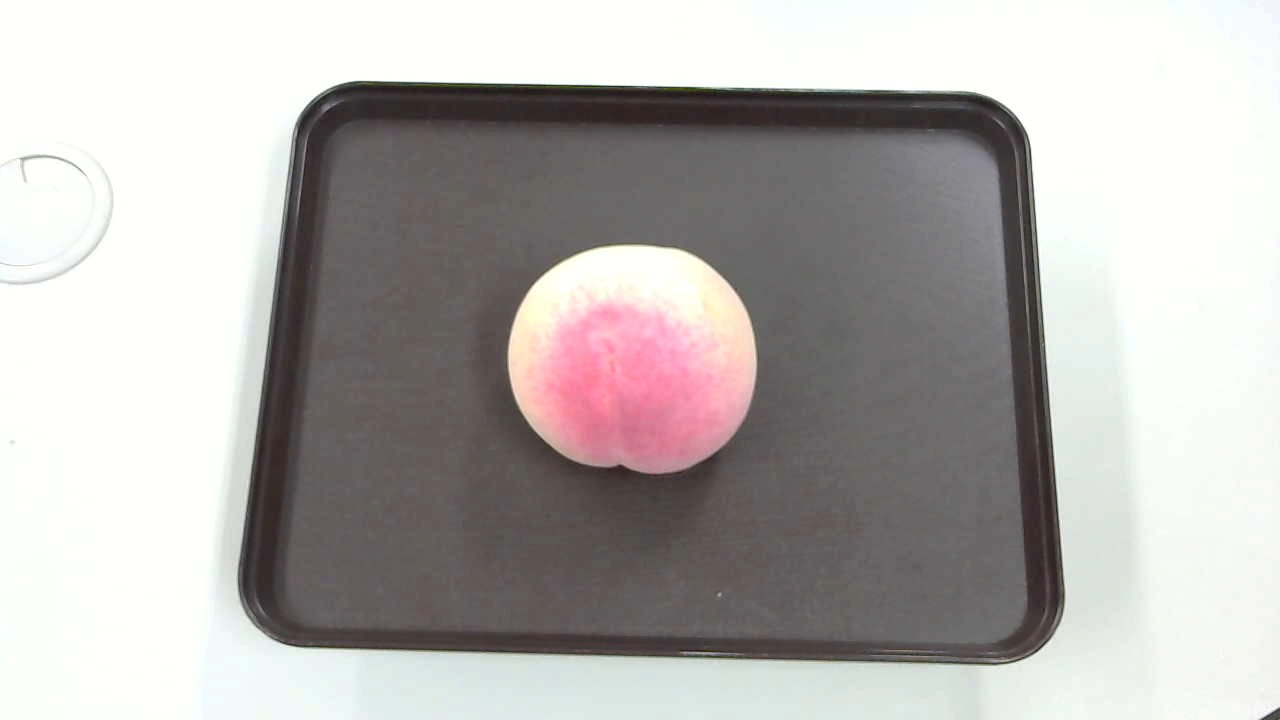peach: (505, 241, 761, 478)
